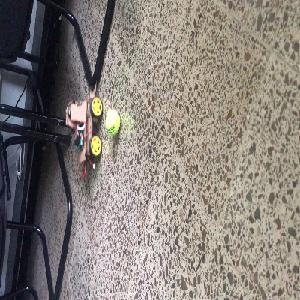Ball: (104, 110, 119, 136)
Robot: (64, 85, 102, 164)
